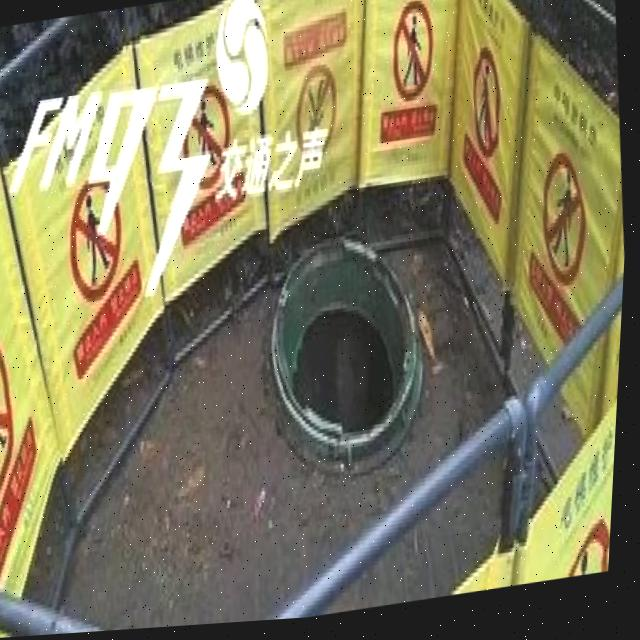manhole: (257, 226, 436, 476)
